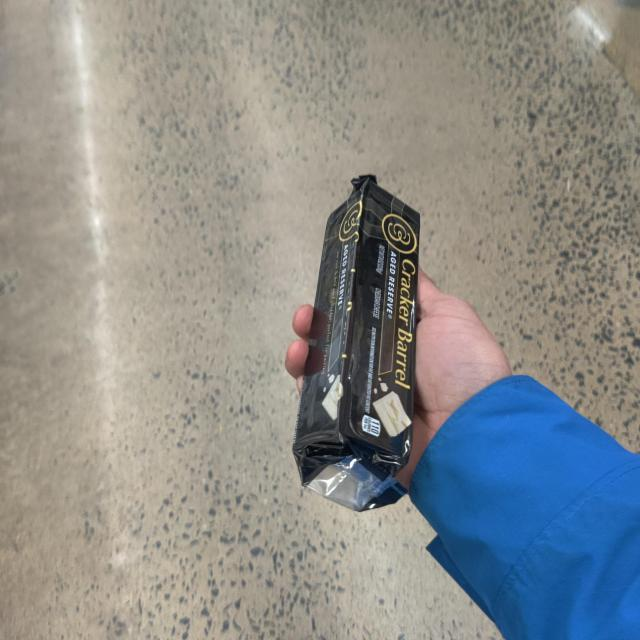Cheese: (302, 179, 418, 506)
